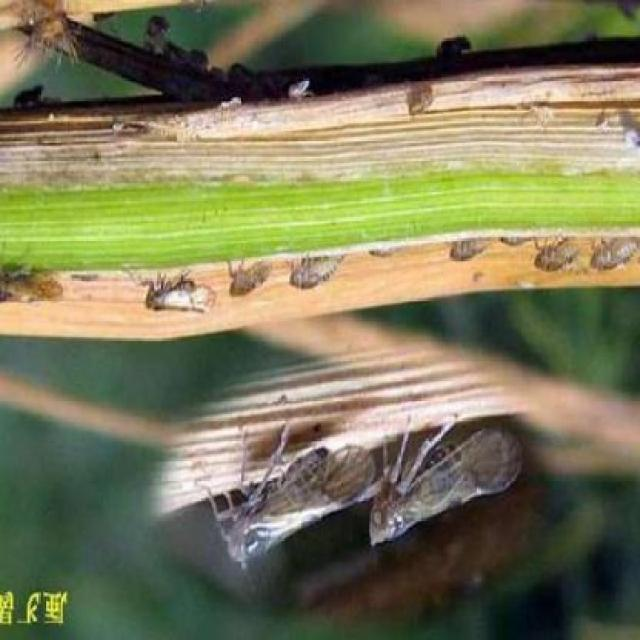brown-planthopper: (368, 411, 538, 547), (203, 422, 360, 566), (139, 278, 216, 316), (2, 268, 60, 308), (288, 255, 349, 292), (589, 240, 640, 278), (227, 262, 276, 298), (532, 239, 582, 273), (406, 85, 434, 122)
